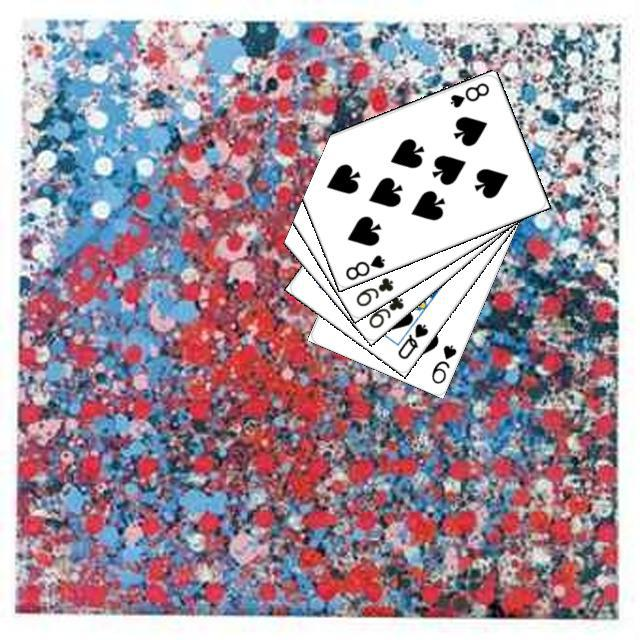8s: (340, 250, 387, 282), (445, 78, 491, 109)
9c: (363, 291, 405, 330), (351, 272, 395, 308)
9s: (426, 340, 458, 385)
Qs: (392, 318, 430, 361)
